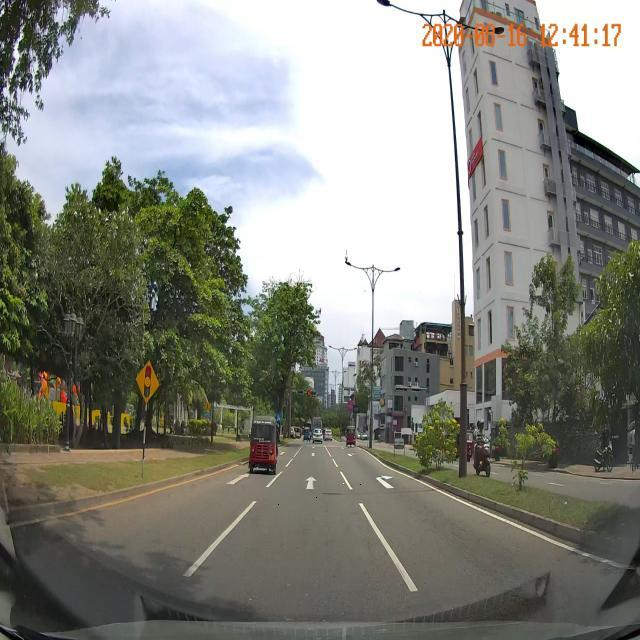forward: (245, 471, 367, 505)
